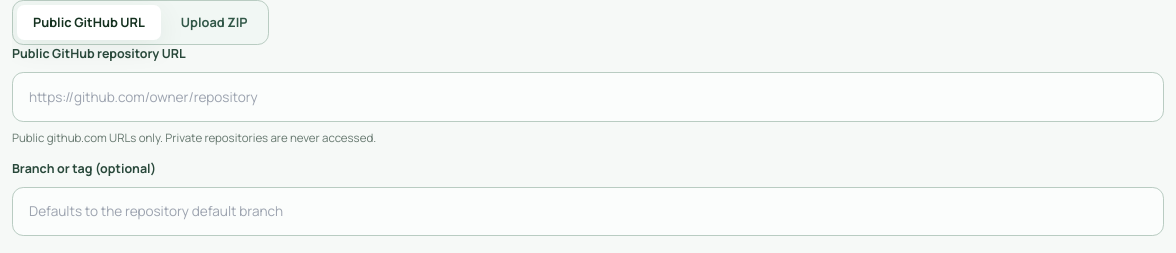
Test: RepositoryInputControls › moves selection, focus, and the active panel when a tab is clicked
Click the tab "Upload ZIP": (214, 23) [165,5,264,40]
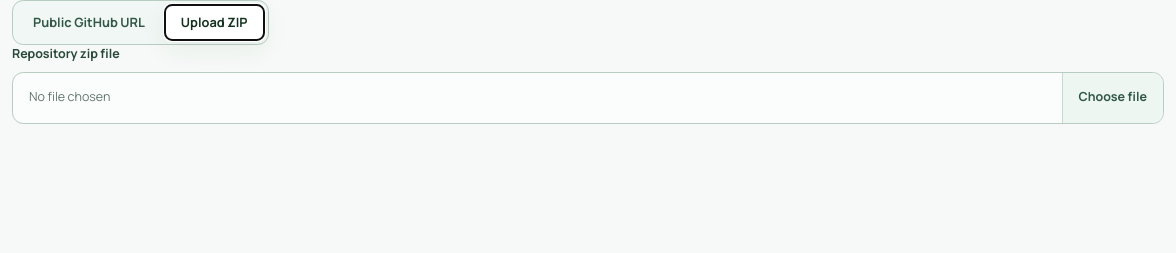
Check: the file field named "Choose repository zip file" is shown, box [12,45,120,62]
Check: the label labelled "Public GitHub repository URL" is gone
